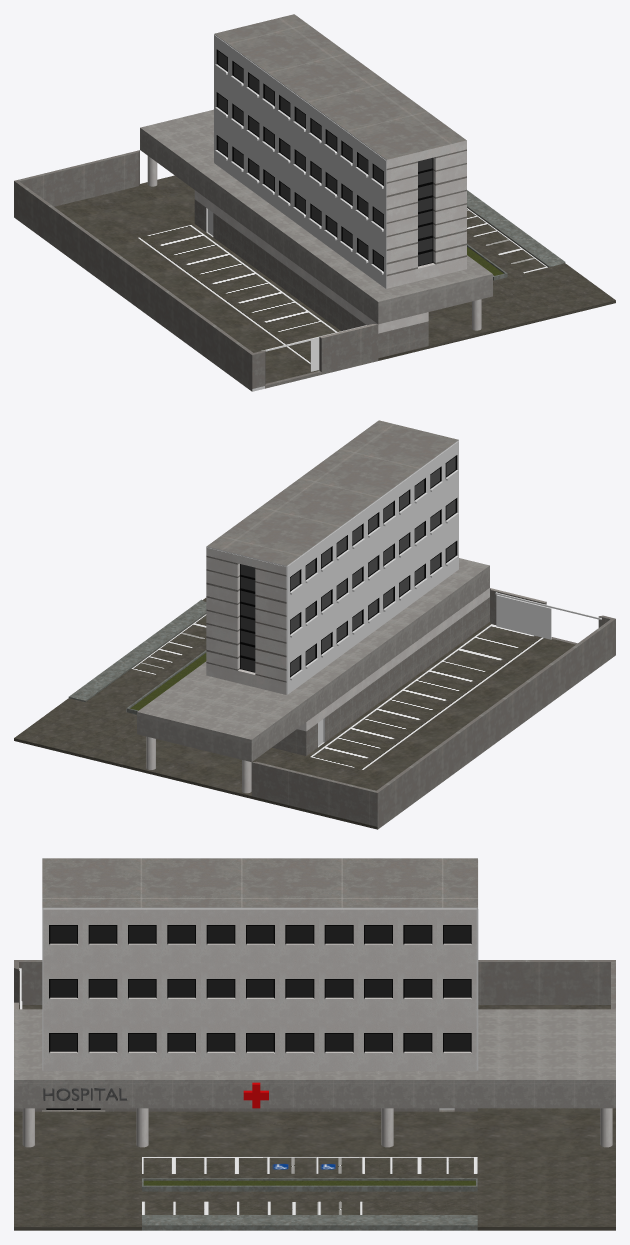
Rendered from hospital.glb.
The picture shows the model from 3 angles, top to bottom: view 1: azimuth 30°, elevation 25°; view 2: azimuth 150°, elevation 25°; view 3: azimuth 270°, elevation 25°; orthographic projection. The views are drawn at different scales.
Visible parts, largest first — view 1: Cubo.001, Cubo.003, Cube.001, Cubo; view 2: Cubo.001, Cube.001, Cubo, Cubo.003, Cubo.002, Cubo.005; view 3: Cubo.001, Cube, Cubo, Cubo.003, Texto, Cubo.002, Cilindro.001, Cilindro.002, Cilindro.003, Cilindro.
Part boxes in pixels (x1=…): Cubo.001: x1=14, y1=150, x2=615, y2=391; Cubo.003: x1=214, y1=14, x2=466, y2=288; Cube.001: x1=214, y1=35, x2=386, y2=288; Cubo: x1=140, y1=109, x2=492, y2=324; Cubo.001: x1=14, y1=588, x2=615, y2=829; Cube.001: x1=287, y1=441, x2=458, y2=694; Cubo: x1=137, y1=558, x2=489, y2=761; Cubo.003: x1=206, y1=420, x2=458, y2=566; Cubo.002: x1=206, y1=547, x2=287, y2=694; Cubo.005: x1=495, y1=592, x2=601, y2=639; Cubo.001: x1=14, y1=960, x2=615, y2=1230; Cube: x1=43, y1=908, x2=476, y2=1071; Cubo: x1=14, y1=1009, x2=615, y2=1108; Cubo.003: x1=42, y1=858, x2=477, y2=1070; Texto: x1=43, y1=1088, x2=127, y2=1100; Cubo.002: x1=476, y1=860, x2=478, y2=1070; Cilindro.001: x1=136, y1=1108, x2=148, y2=1147; Cilindro.002: x1=381, y1=1108, x2=393, y2=1147; Cilindro.003: x1=600, y1=1108, x2=612, y2=1147; Cilindro: x1=22, y1=1108, x2=34, y2=1147.
Bounding box in the file's own units: 61.41 × 30.35 × 69.65.
37 materials, 19 textured.
